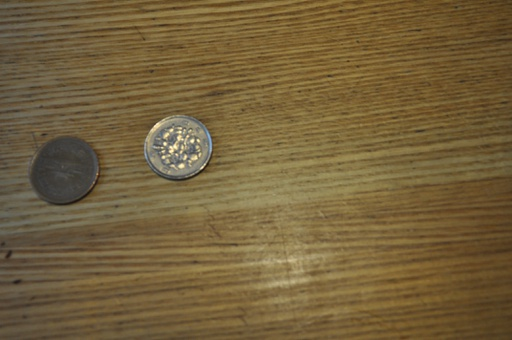100yen: (145, 116, 212, 180)
10yen: (29, 135, 99, 204)
